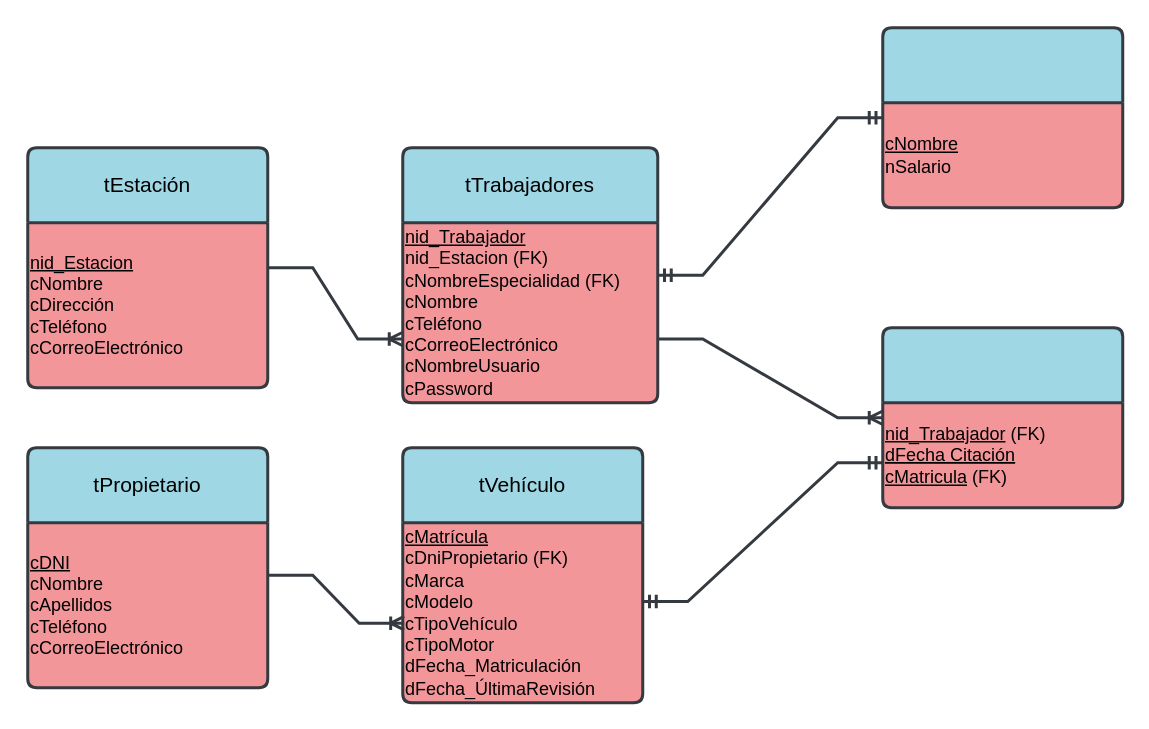
The diagram is 1149 pixels wide and 729 high, and some of its shapes have lost their labels. Here are the shapes that lost their labels. From the top down, the box of each, then its label:
(880, 26, 1124, 208): tEspecialidad
(880, 326, 1124, 508): tCita
